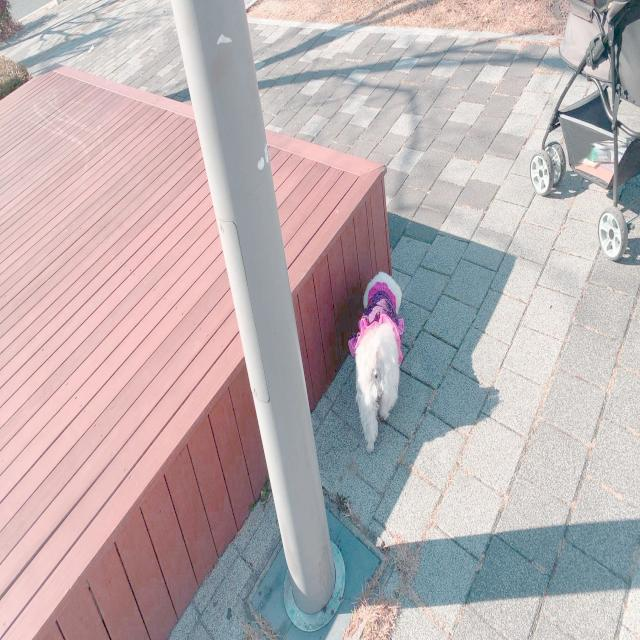Dog: (355, 271, 403, 454)
